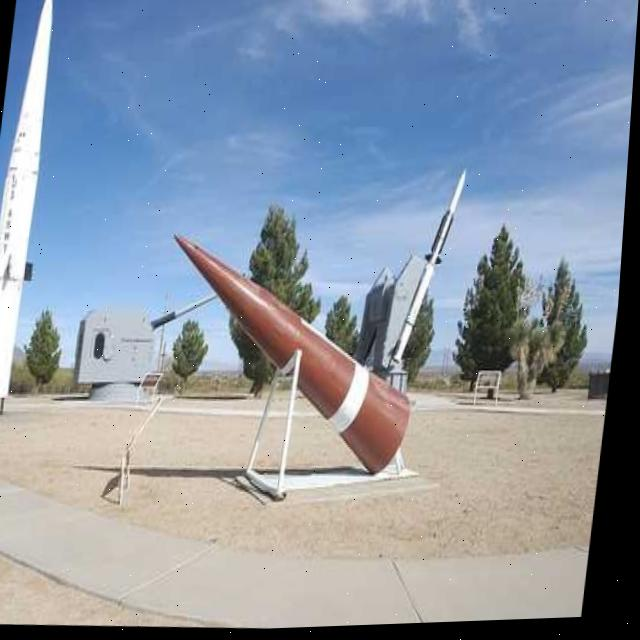missile: (0, 0, 68, 421), (386, 170, 472, 400)
